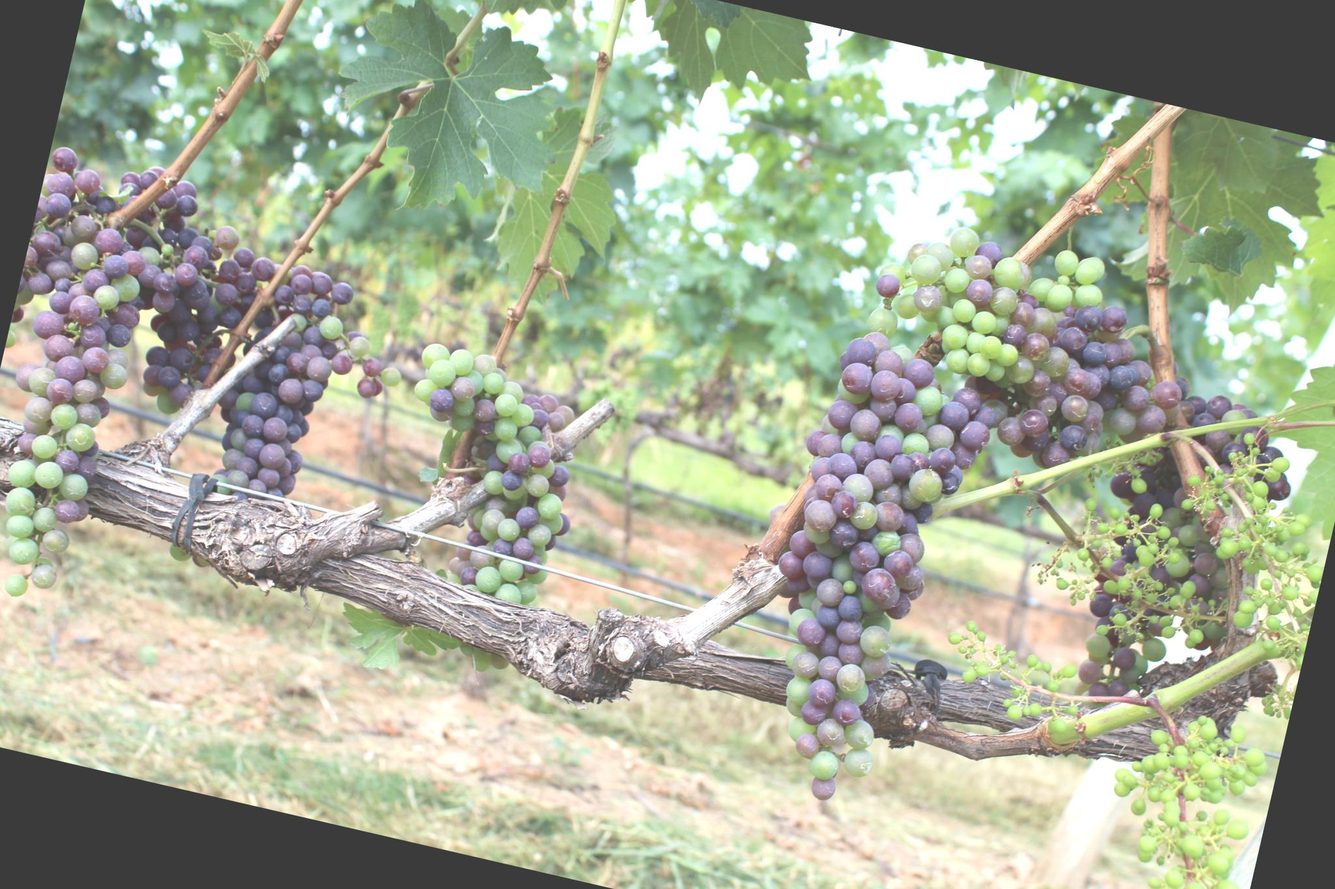Grape Ripe: (200, 251, 368, 511), (117, 197, 271, 419), (20, 139, 211, 317)
Grape Unripe: (1072, 687, 1278, 889)
